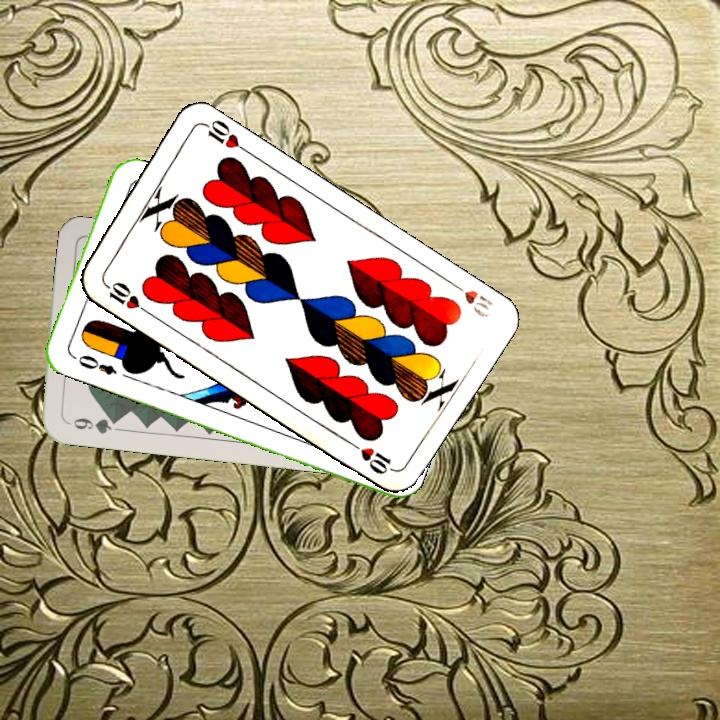EO: (68, 350, 120, 378)
G9: (62, 413, 122, 436)
H10: (445, 277, 495, 321), (98, 277, 151, 316)
